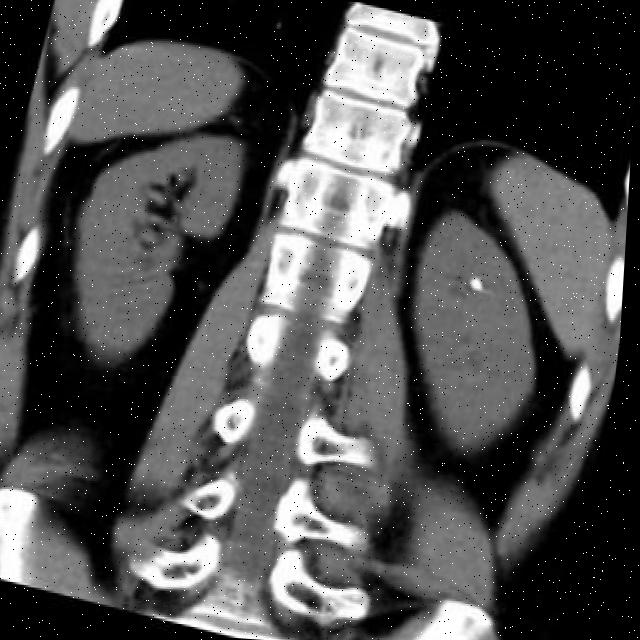Tas_Var: (463, 265, 493, 301)
